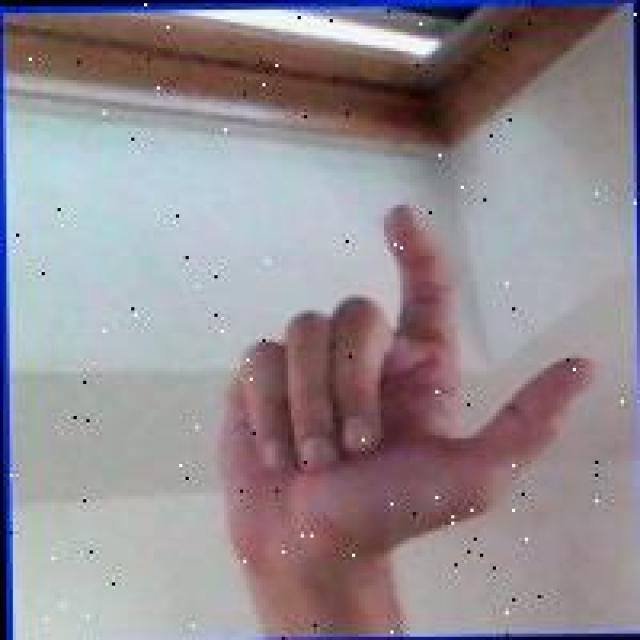L: (200, 192, 606, 570)
